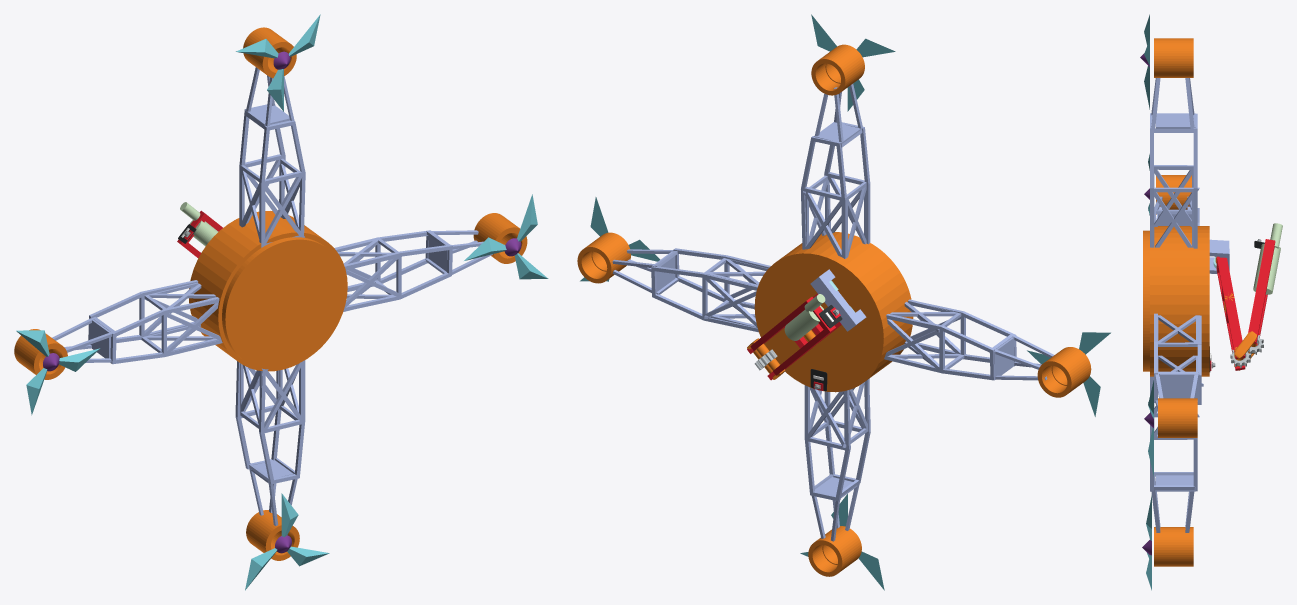
Rendered from tinker.obj.
3 views of the same model, side by side, from view 1: azimuth 30°, elevation 25°; view 2: azimuth 150°, elevation 25°; view 3: azimuth 270°, elevation 25° (orthographic).
Parts seen in each view (by area): view 1: obj_9, obj_0, obj_49, obj_58, obj_40, obj_31, obj_64, obj_37, obj_55, obj_46, obj_18, obj_32 (+12 smaller); view 2: obj_20, obj_19, obj_32, obj_59, obj_50, obj_41, obj_48, obj_30, obj_57, obj_39, obj_49, obj_18 (+14 smaller); view 3: obj_19, obj_18, obj_0, obj_39, obj_48, obj_57, obj_53, obj_11, obj_9, obj_3, obj_38, obj_51 (+23 smaller).
Boxes of the visible parts, bbox=[...] form: obj_9: bbox=[222, 237, 346, 369]; obj_0: bbox=[208, 225, 347, 371]; obj_49: bbox=[259, 120, 305, 247]; obj_58: bbox=[259, 360, 305, 484]; obj_40: bbox=[343, 244, 452, 311]; obj_31: bbox=[110, 299, 222, 364]; obj_64: bbox=[245, 493, 329, 590]; obj_37: bbox=[16, 330, 100, 415]; obj_55: bbox=[236, 14, 320, 111]; obj_46: bbox=[464, 194, 548, 279]; obj_18: bbox=[198, 218, 315, 352]; obj_32: bbox=[88, 280, 198, 342]; obj_20: bbox=[760, 258, 880, 387]; obj_19: bbox=[754, 246, 893, 392]; obj_32: bbox=[884, 314, 995, 380]; obj_59: bbox=[804, 385, 850, 501]; obj_50: bbox=[801, 136, 846, 258]; obj_41: bbox=[651, 266, 758, 332]; obj_48: bbox=[811, 44, 864, 95]; obj_30: bbox=[1037, 347, 1091, 397]; obj_57: bbox=[808, 526, 861, 576]; obj_39: bbox=[577, 232, 630, 283]; obj_49: bbox=[824, 122, 870, 244]; obj_18: bbox=[787, 239, 903, 373]; obj_19: bbox=[1189, 226, 1209, 376]; obj_18: bbox=[1169, 226, 1189, 371]; obj_0: bbox=[1150, 226, 1169, 376]; obj_39: bbox=[1158, 398, 1197, 437]; obj_48: bbox=[1154, 38, 1193, 77]; obj_57: bbox=[1154, 527, 1193, 566]; obj_53: bbox=[1150, 187, 1199, 247]; obj_11: bbox=[1248, 244, 1274, 343]; obj_9: bbox=[1143, 230, 1149, 371]; obj_3: bbox=[1217, 260, 1245, 359]; obj_38: bbox=[1160, 373, 1199, 403]; obj_51: bbox=[1154, 165, 1193, 226].
Bounding box in the file's own units: 313 × 314 × 72.
